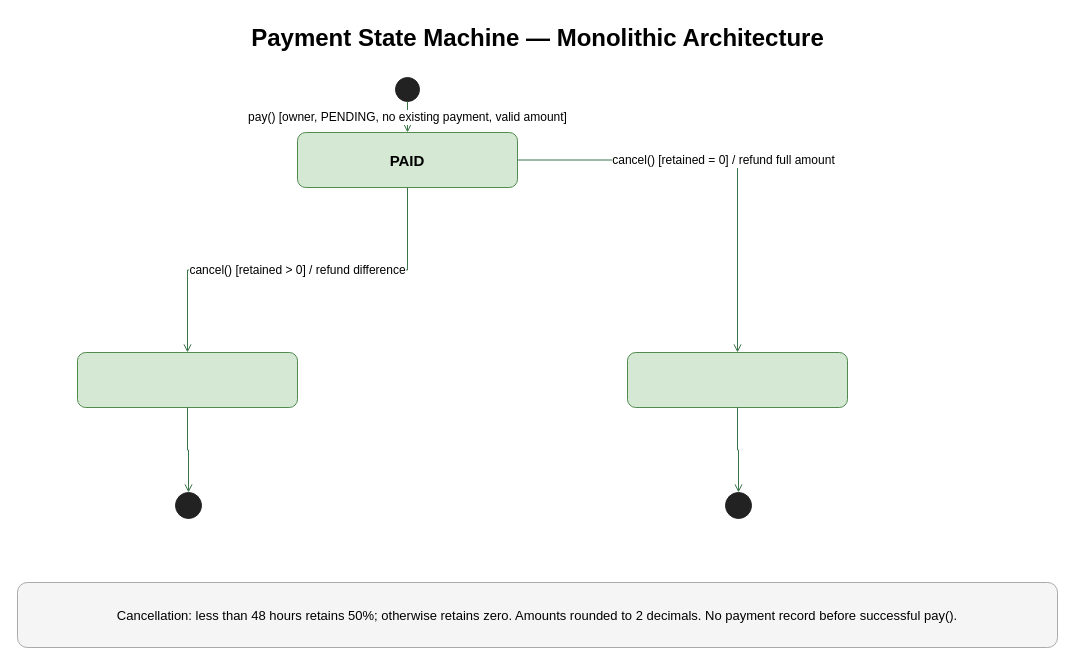
The diagram is 1075 pixels wide and 665 high, and some of its shapes have lost their labels. Each missing label, with the box of its shape:
PARTIALLY_REFUNDED: (76, 352, 298, 408)
REFUNDED: (626, 352, 848, 408)
